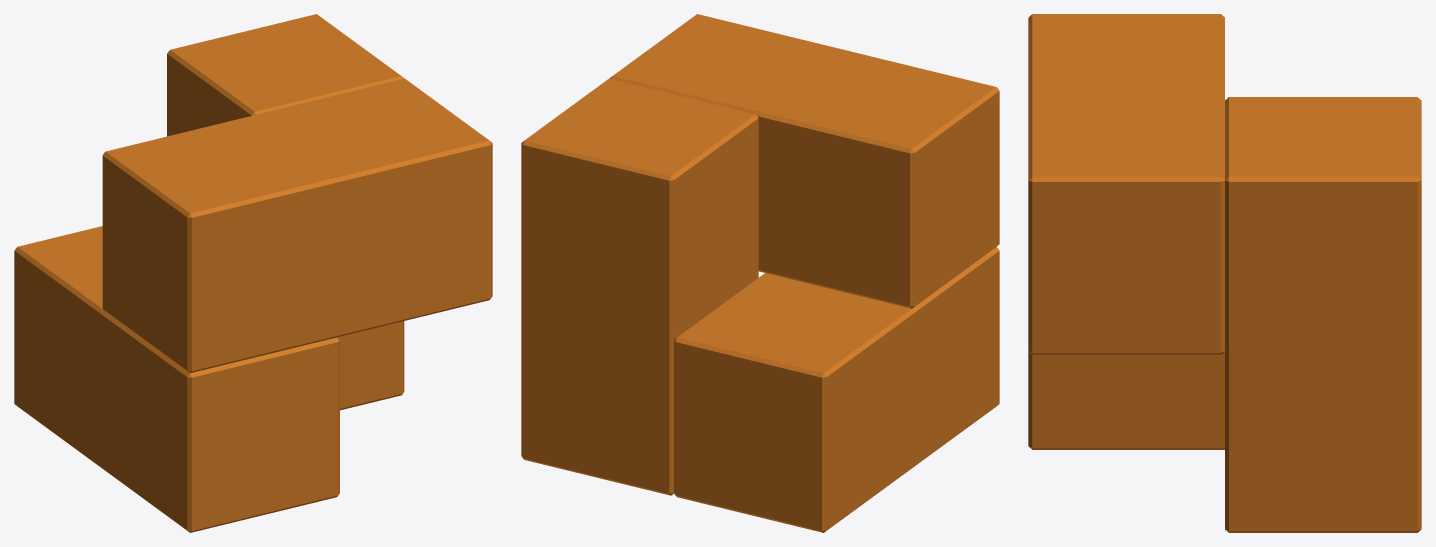
File: naef_M.fbx
3 renders of one model, left to right at view 1: azimuth 30°, elevation 25°; view 2: azimuth 150°, elevation 25°; view 3: azimuth 270°, elevation 25°, orthographic. The views are drawn at different scales.
Visible parts, largest first — view 1: naef_M; view 2: naef_M; view 3: naef_M.
Part boxes in pixels (x1,y1,x2,y2): naef_M: [14, 14, 492, 532]; naef_M: [521, 14, 999, 532]; naef_M: [1028, 14, 1421, 532].
Size of the model in its own units: 2000 by 2000 by 2000.
